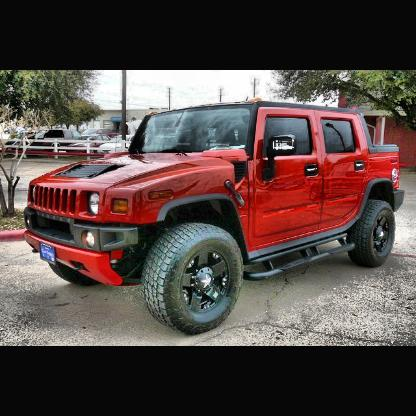HUMMER H2 SUT Crew Cab 2009: (23, 96, 406, 336)
